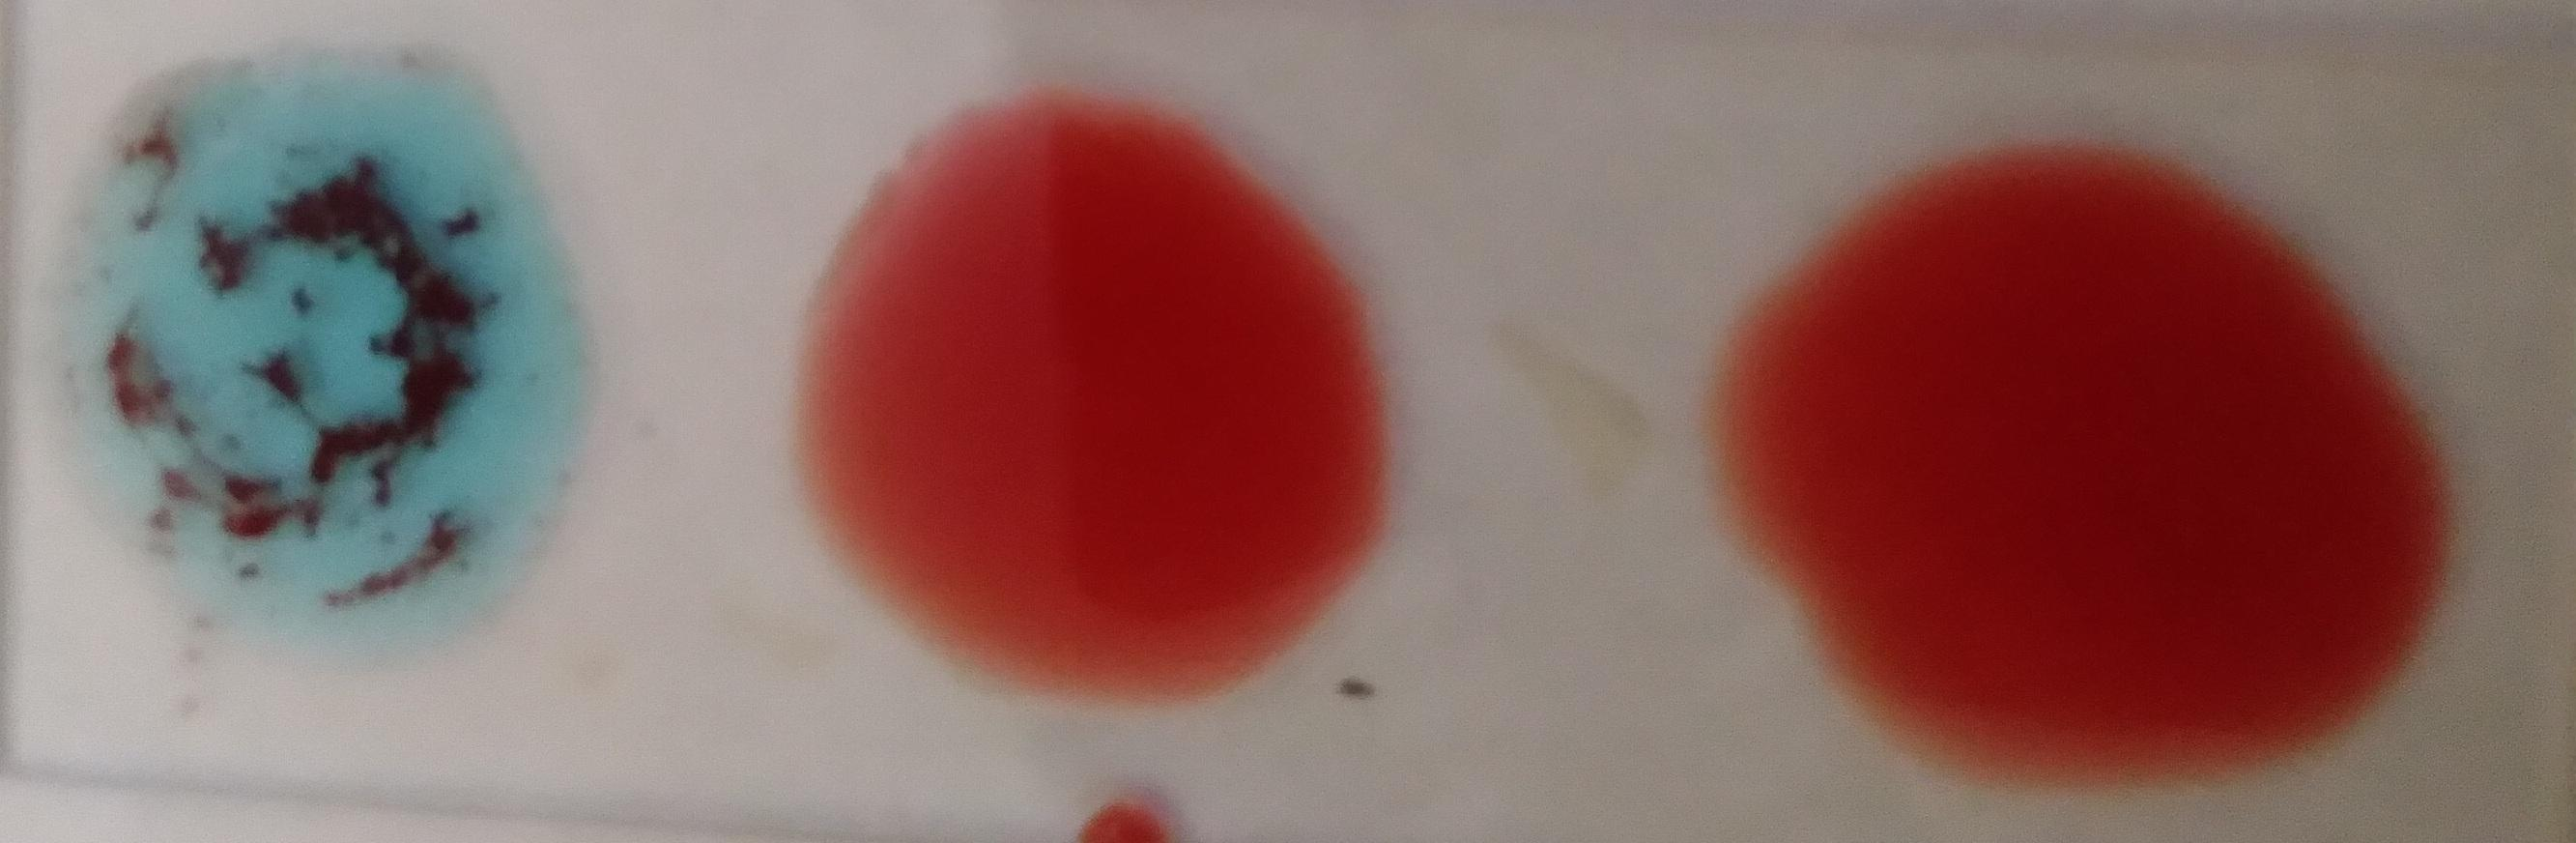A: (49, 61, 537, 624)
